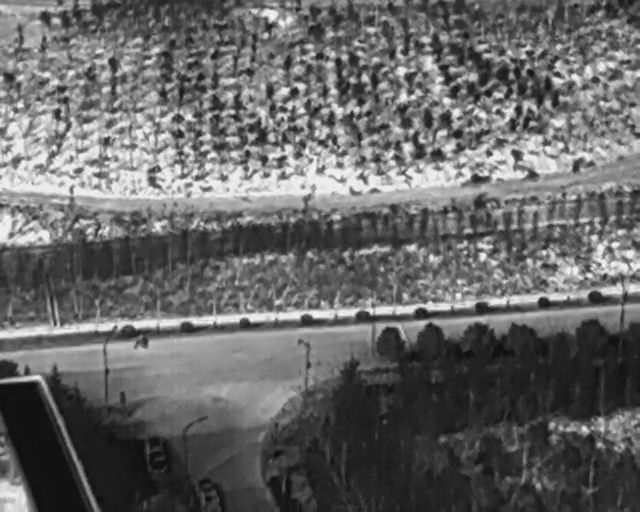Bicycle: (132, 330, 149, 350)
